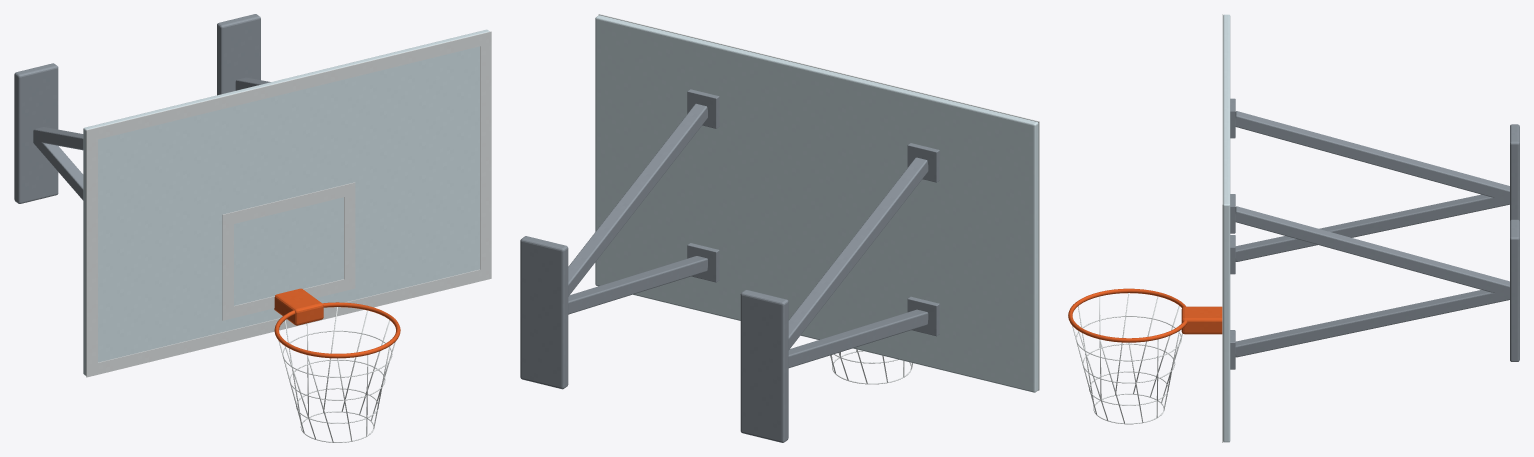
The model's file is wall_basketball_hoop.fbx.
The picture shows the model from 3 angles, left to right: view 1: azimuth 30°, elevation 25°; view 2: azimuth 150°, elevation 25°; view 3: azimuth 270°, elevation 25°; orthographic projection. The views are drawn at different scales.
Visible parts, largest first — view 1: Backboard, Backboard border, Wall fixing plate, Backboard target, Wall fixing plate.001, Basketball ring, Basketball ring bracket, Wall hoop bracing arm, Wall hoop bracing arm.001; view 2: Backboard, Wall fixing plate, Wall fixing plate.001, Wall hoop bracing arm.001, Wall hoop bracing arm.003, Wall hoop bracing arm, Wall hoop bracing arm.002, Backboard border, Backboard rear mounting pad.001, Backboard rear mounting pad.003, Backboard rear mounting pad.002, Backboard rear mounting pad; view 3: Wall hoop bracing arm.001, Wall hoop bracing arm.003, Wall hoop bracing arm.002, Wall hoop bracing arm, Backboard, Wall fixing plate.001, Basketball ring, Basketball ring bracket, Wall fixing plate, Backboard border.
Part boxes in pixels (left/top/right/bottom): Backboard: left=83, top=29, right=489, bottom=375; Backboard border: left=86, top=31, right=491, bottom=377; Wall fixing plate: left=14, top=63, right=58, bottom=203; Backboard target: left=222, top=182, right=355, bottom=320; Wall fixing plate.001: left=217, top=14, right=260, bottom=95; Basketball ring: left=274, top=302, right=400, bottom=358; Basketball ring bracket: left=274, top=288, right=323, bottom=325; Wall hoop bracing arm: left=33, top=140, right=83, bottom=200; Wall hoop bracing arm.001: left=33, top=127, right=83, bottom=150; Backboard: left=595, top=15, right=1038, bottom=392; Wall fixing plate: left=740, top=290, right=788, bottom=442; Wall fixing plate.001: left=520, top=236, right=568, bottom=389; Wall hoop bracing arm.001: left=788, top=157, right=928, bottom=349; Wall hoop bracing arm.003: left=568, top=103, right=707, bottom=296; Wall hoop bracing arm: left=788, top=309, right=928, bottom=367; Wall hoop bracing arm.002: left=568, top=256, right=707, bottom=314; Backboard border: left=598, top=14, right=1039, bottom=390; Backboard rear mounting pad.001: left=907, top=143, right=939, bottom=182; Backboard rear mounting pad.003: left=687, top=89, right=719, bottom=128; Backboard rear mounting pad.002: left=687, top=243, right=719, bottom=282; Backboard rear mounting pad: left=907, top=296, right=939, bottom=336; Wall hoop bracing arm.001: left=1235, top=111, right=1509, bottom=197; Wall hoop bracing arm.003: left=1235, top=206, right=1509, bottom=292; Wall hoop bracing arm.002: left=1235, top=290, right=1509, bottom=357; Wall hoop bracing arm: left=1235, top=194, right=1509, bottom=261; Backboard: left=1223, top=14, right=1230, bottom=442; Wall fixing plate.001: left=1510, top=219, right=1519, bottom=361; Basketball ring: left=1068, top=288, right=1187, bottom=342; Basketball ring bracket: left=1181, top=306, right=1222, bottom=334; Wall fixing plate: left=1510, top=124, right=1519, bottom=221; Backboard border: left=1222, top=14, right=1223, bottom=442.
Size of the model in its own units: 180 by 132 by 180.
Materials: 4 (4 with a texture image).
